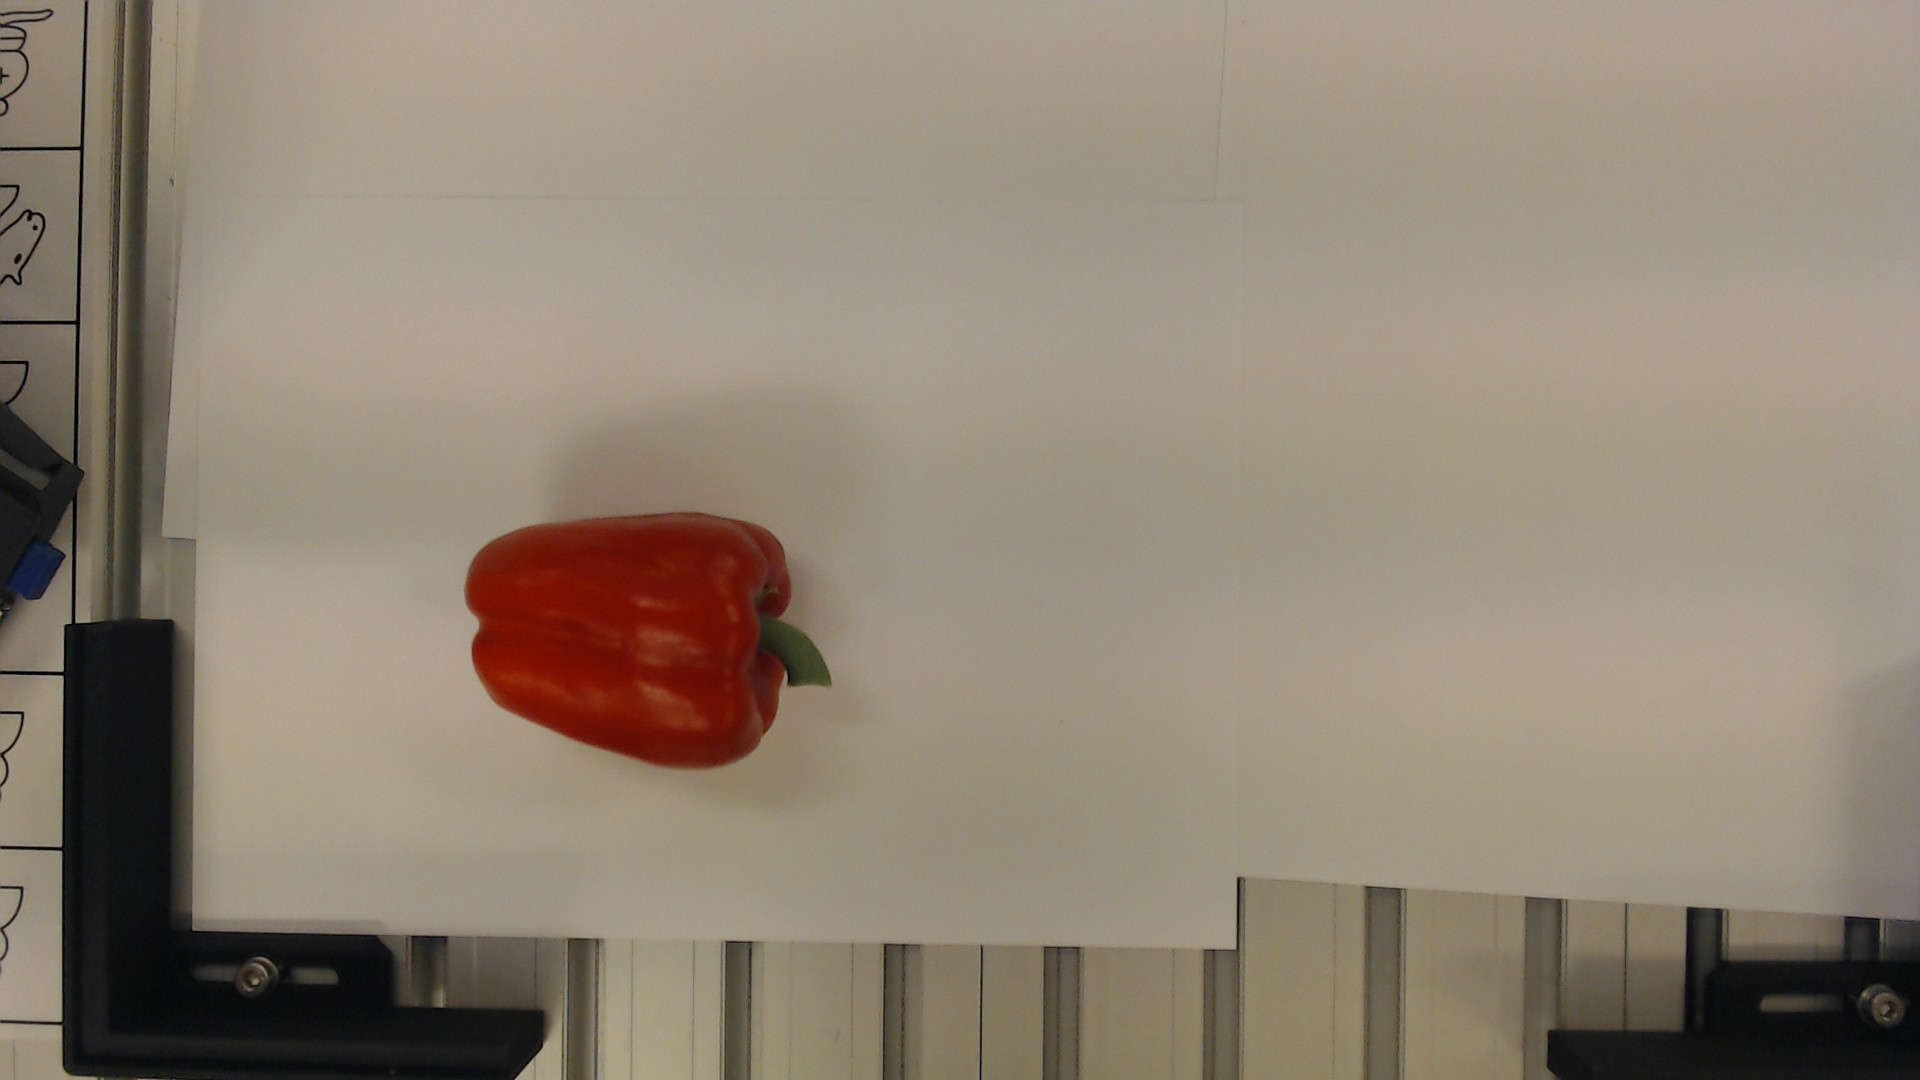Red Bell Pepper: (460, 514, 833, 775)
